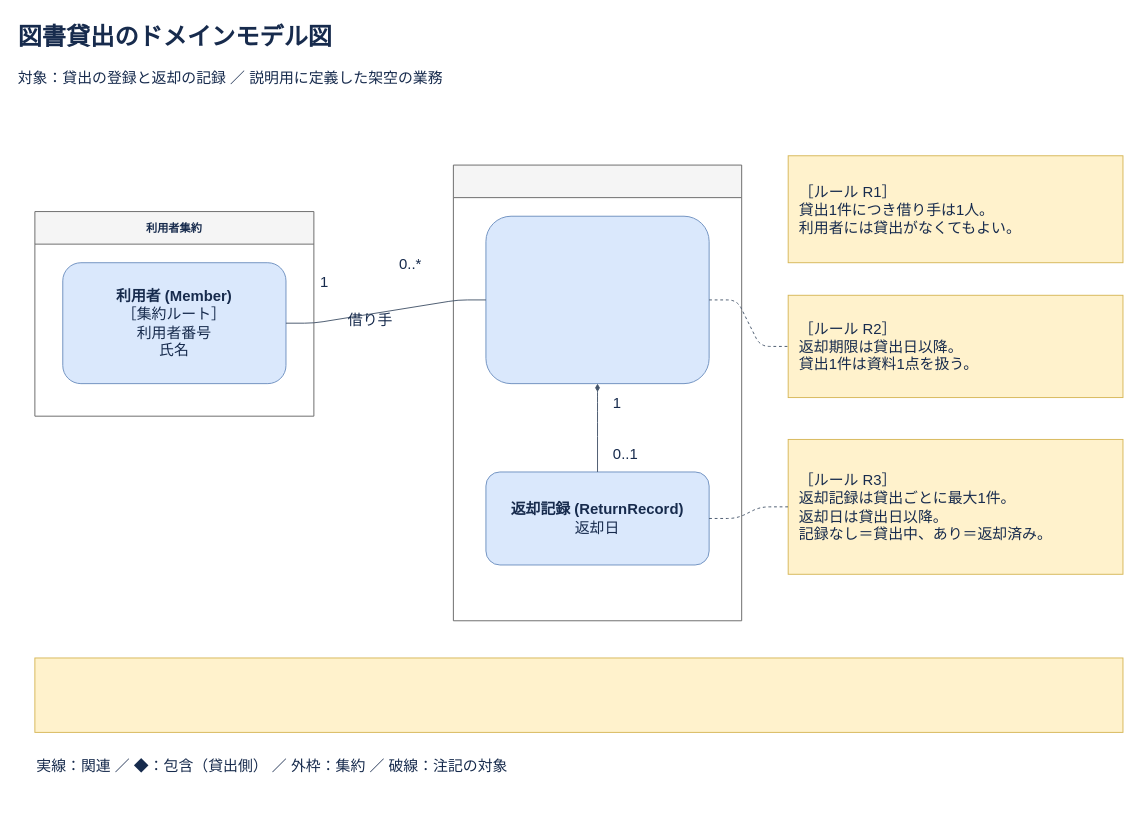
Image size: 1139x822. Some labels were removed from this diagram. The box of each missing label's shape, as (x1, y1, x2, y2) in pixels:
貸出 (Loan) ［集約ルート］ 貸出番号 資料番号 貸出日 返却期限: (485, 215, 709, 384)
貸出集約: (452, 164, 742, 621)
［仮定］返却記録は貸出の一部として保持し、貸出単位で整合性を保つ。 資料は番号のみで識別する。資料台帳・予約・延滞料金・同時貸出の制御は対象外。: (34, 657, 1123, 732)
